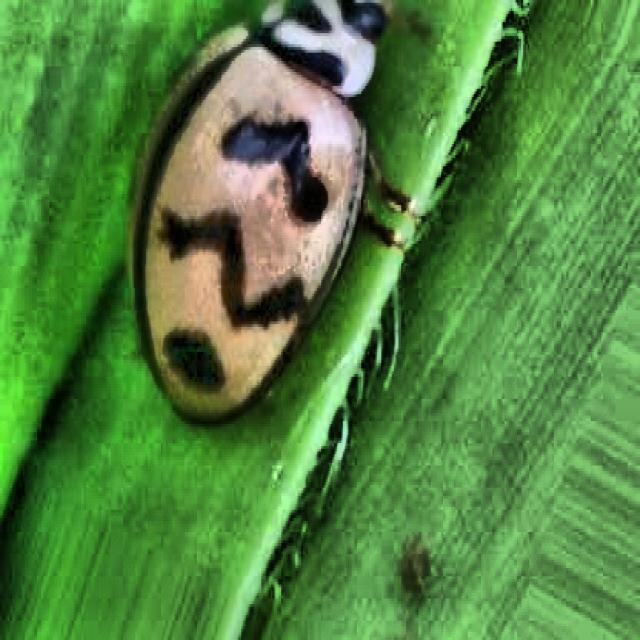Asian-Lady-beetle: (83, 4, 498, 542)
